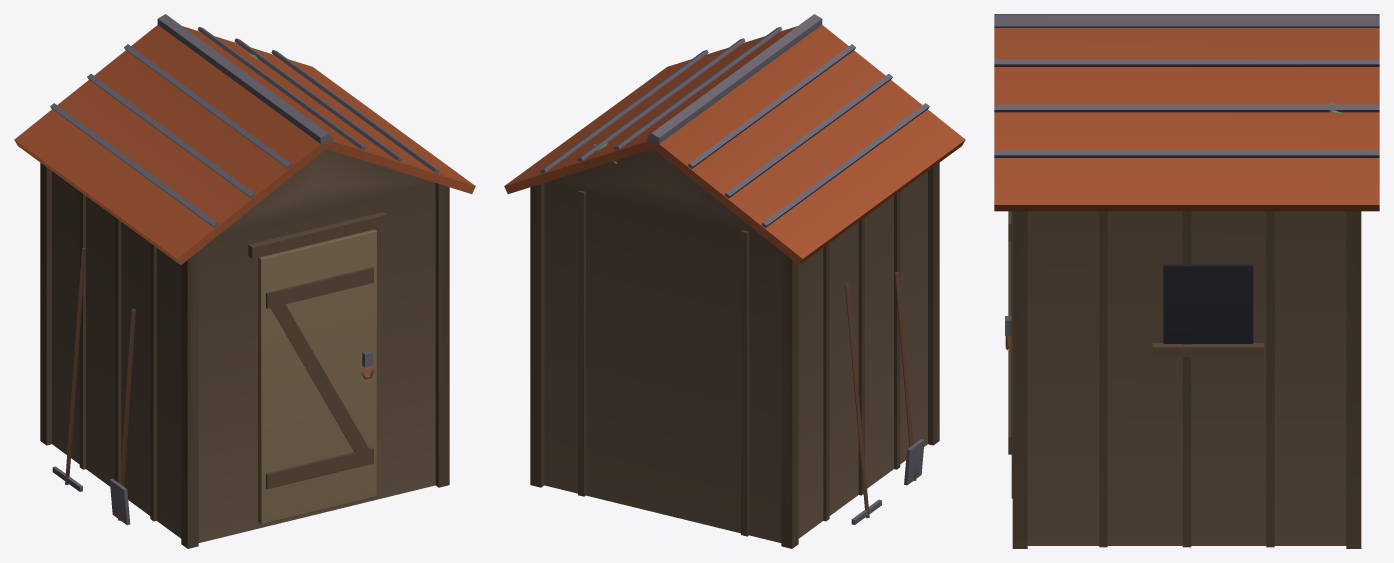
Rendered from shed_tool.glb.
3 views of the same model, side by side, from view 1: azimuth 30°, elevation 25°; view 2: azimuth 150°, elevation 25°; view 3: azimuth 270°, elevation 25° (orthographic). The views are drawn at different scales.
Parts seen in each view (by area): view 1: shed_tool, door; view 2: shed_tool; view 3: shed_tool, door.
Boxes of the visible parts, <box> form: shed_tool: <box>14,14,475,548</box>; door: <box>258,229,376,524</box>; shed_tool: <box>504,14,965,548</box>; shed_tool: <box>994,14,1379,548</box>; door: <box>1005,211,1012,498</box>.
Bounding box in the file's own units: 1.95 × 2.37 × 1.8.
